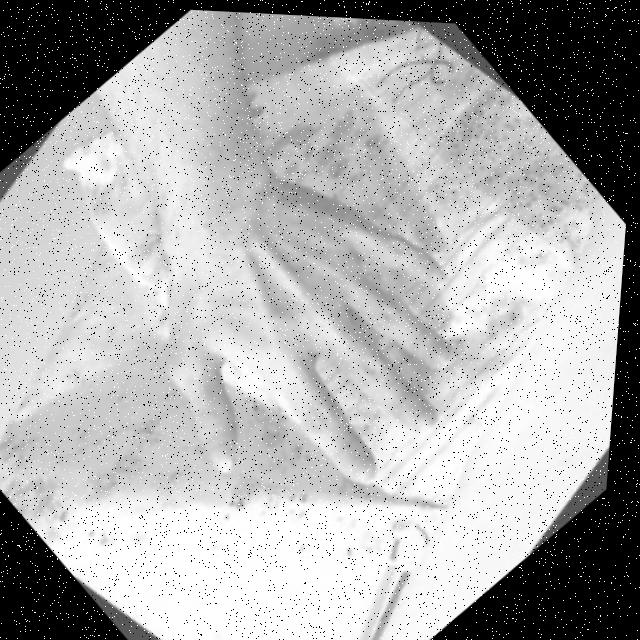hand: (105, 136, 538, 562)
